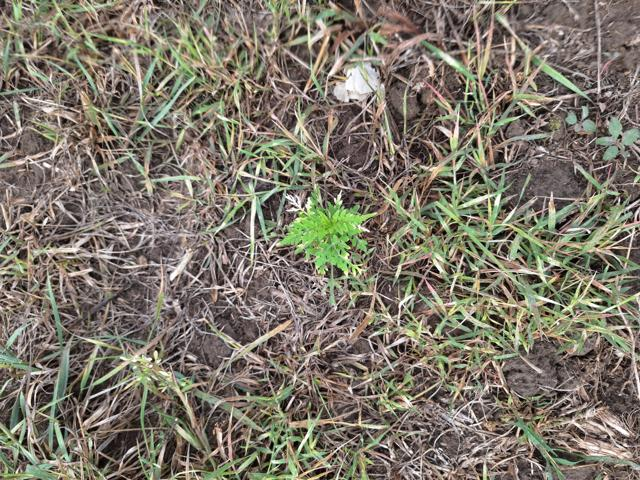bad weed: (276, 185, 378, 280)
